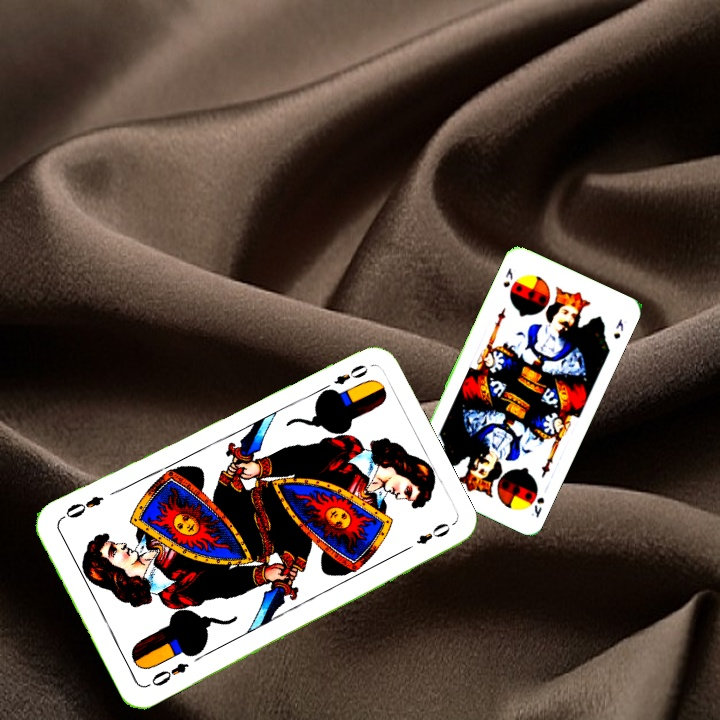EO: (316, 360, 371, 396), (143, 658, 191, 690)
SK: (527, 493, 547, 520), (499, 264, 515, 290)
